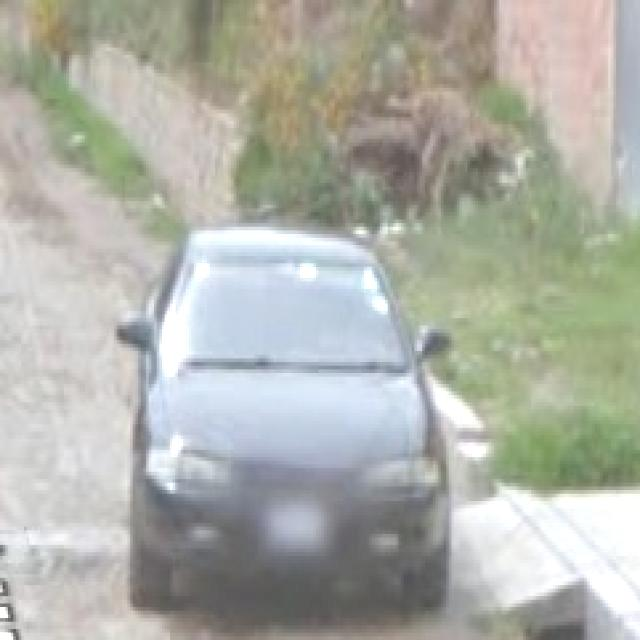car: (120, 224, 453, 597)
